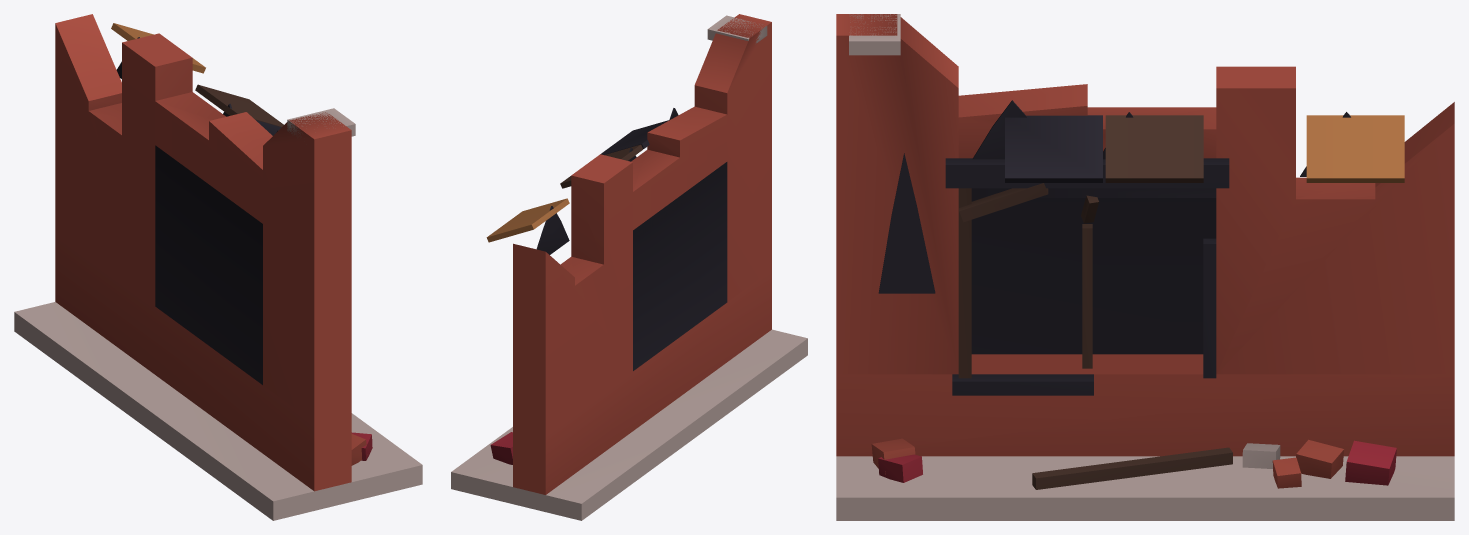
3 views of the same model, side by side, from view 1: azimuth 30°, elevation 25°; view 2: azimuth 150°, elevation 25°; view 3: azimuth 270°, elevation 25° (orthographic). The views are drawn at different scales.
Parts seen in each view (by area): view 1: body_pal_brick, body_pal_sidewalk, body_pal_uiDark, body_pal_leather, body_pal_woodWarm; view 2: body_pal_brick, body_pal_sidewalk, body_pal_uiDark, body_pal_woodWarm, body_pal_redDark; view 3: body_pal_brick, body_pal_uiDark, body_pal_sidewalk, body_pal_leather, body_pal_woodWarm, body_pal_redDark.
Part boxes in pixels (x1,y1,x2,y2): body_pal_brick: (55, 14, 367, 491); body_pal_sidewalk: (14, 108, 422, 520); body_pal_uiDark: (116, 37, 281, 384); body_pal_leather: (195, 84, 283, 127); body_pal_woodWarm: (111, 23, 205, 73); body_pal_brick: (513, 14, 771, 494); body_pal_sidewalk: (451, 15, 807, 520); body_pal_uiDark: (536, 108, 727, 370); body_pal_woodWarm: (486, 198, 569, 242); body_pal_redDark: (490, 432, 512, 464); body_pal_brick: (836, 14, 1454, 488); body_pal_uiDark: (878, 100, 1350, 395); body_pal_sidewalk: (836, 14, 1454, 520); body_pal_leather: (958, 115, 1232, 489); body_pal_woodWarm: (1306, 115, 1404, 182); body_pal_redDark: (878, 440, 1396, 485).
Size of the model in its own units: 1.6 by 3.8 by 4.8.
